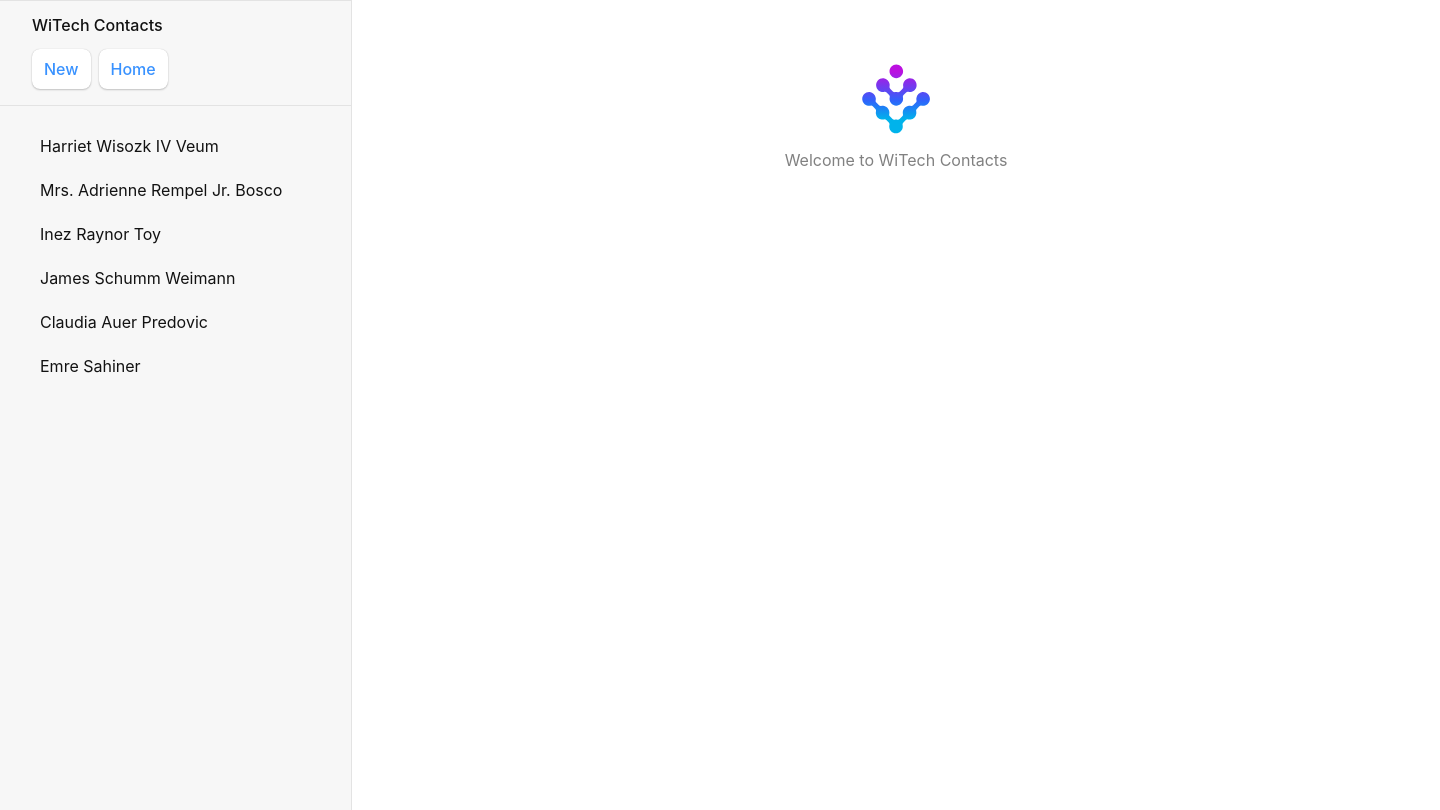
Test: Kullanıcı detaylarını gösteriyor
Click the link with test id "contact" showing "Harriet Wisozk IV Veum" at (129, 146), box top-left (40, 136), bottom-right (219, 156)
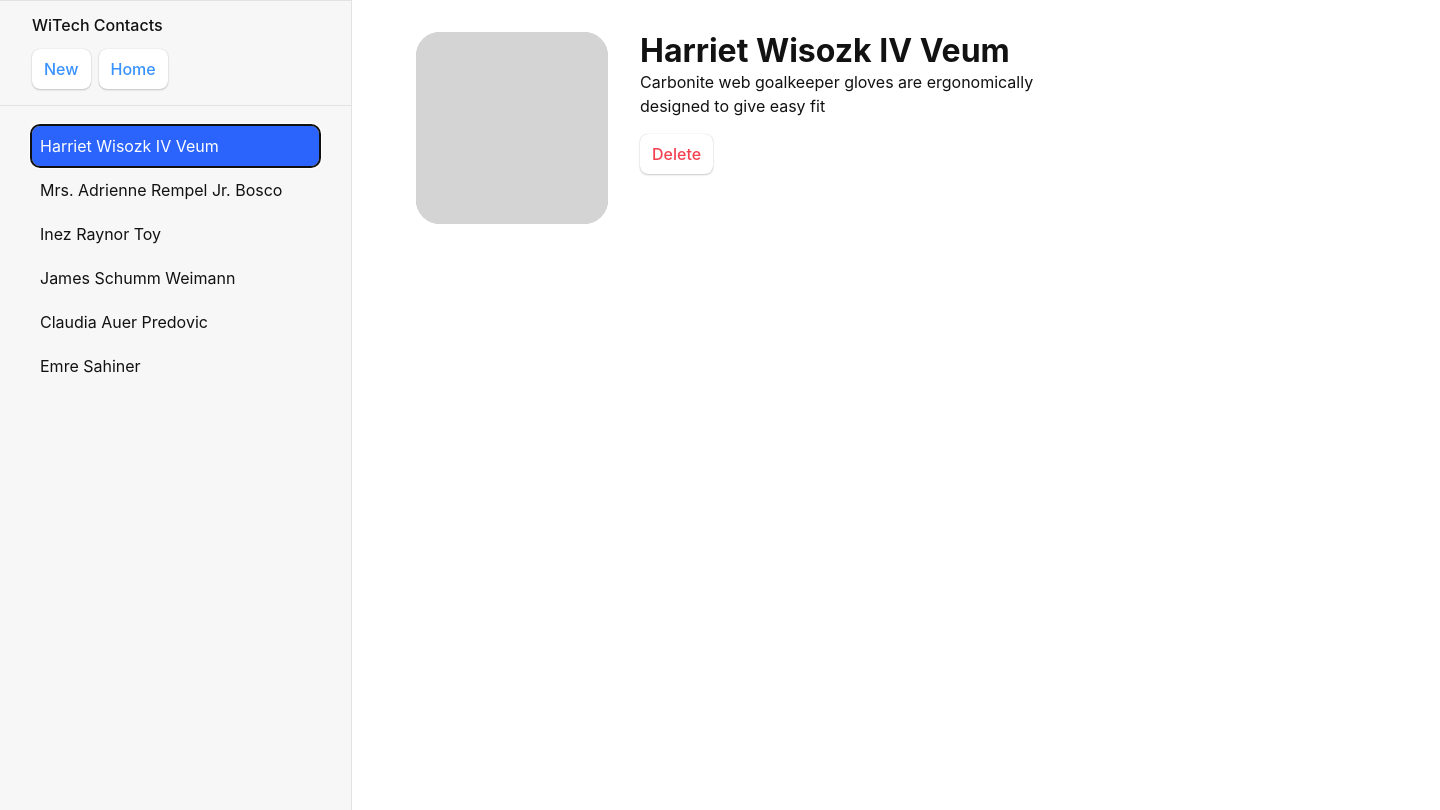
Check: the heading "Harriet Wisozk IV Veum" is shown, box top-left (640, 32), bottom-right (1056, 70)
